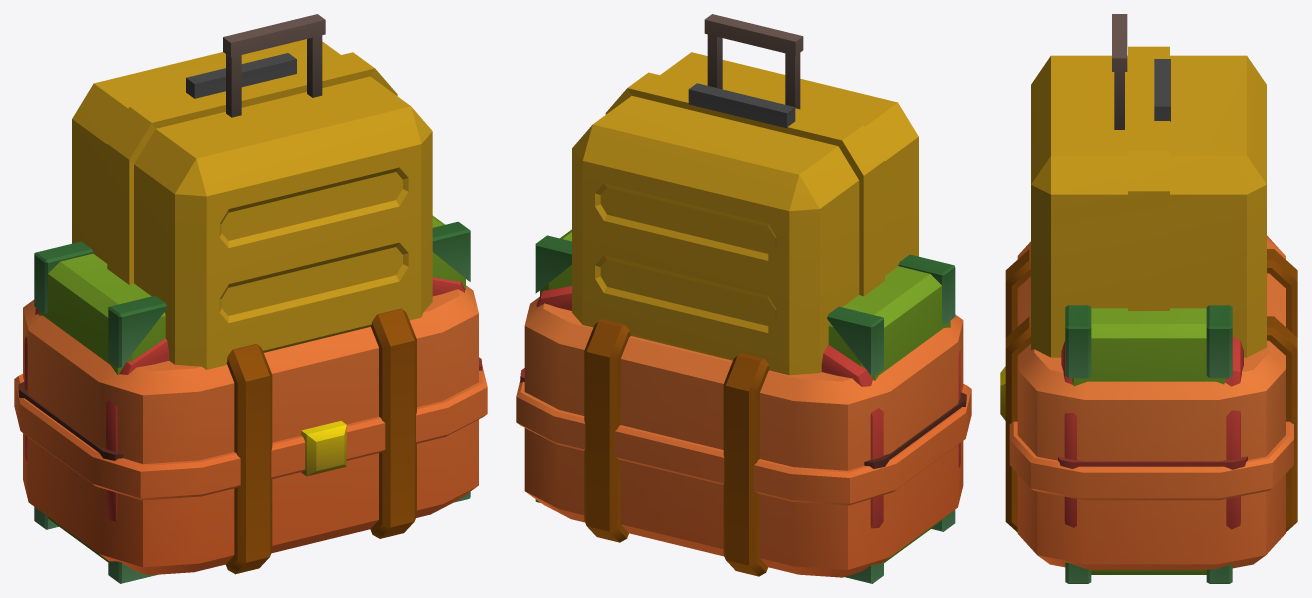
Rendered from bavullar_v1.fbx.
The picture shows the model from 3 angles, left to right: view 1: azimuth 30°, elevation 25°; view 2: azimuth 150°, elevation 25°; view 3: azimuth 270°, elevation 25°; orthographic projection. The views are drawn at different scales.
Visible parts, largest first — view 1: old_baggage_v1, yellowmodern_baggage_v1, green_old_baggage_v1, red_baggage_v1, blue_modern_baggage_v1; view 2: old_baggage_v1, yellowmodern_baggage_v1, green_old_baggage_v1, red_baggage_v1, blue_modern_baggage_v1; view 3: yellowmodern_baggage_v1, old_baggage_v1, green_old_baggage_v1, red_baggage_v1, blue_modern_baggage_v1.
Boxes of the visible parts, x1,y1,x2,y2 form: old_baggage_v1: (14, 285, 487, 575); yellowmodern_baggage_v1: (72, 14, 432, 369); green_old_baggage_v1: (34, 215, 470, 583); red_baggage_v1: (18, 277, 482, 521); blue_modern_baggage_v1: (186, 53, 296, 98); old_baggage_v1: (516, 296, 971, 577); yellowmodern_baggage_v1: (572, 14, 918, 375); green_old_baggage_v1: (535, 229, 955, 583); red_baggage_v1: (520, 286, 966, 528); blue_modern_baggage_v1: (688, 83, 795, 128); yellowmodern_baggage_v1: (1031, 14, 1266, 357); old_baggage_v1: (1000, 235, 1297, 570); green_old_baggage_v1: (1065, 305, 1232, 583); red_baggage_v1: (1058, 337, 1247, 529); blue_modern_baggage_v1: (1154, 59, 1170, 121).
Bounding box in the file's own units: 92.88 × 112 × 64.35.
1 material, 1 textured.
